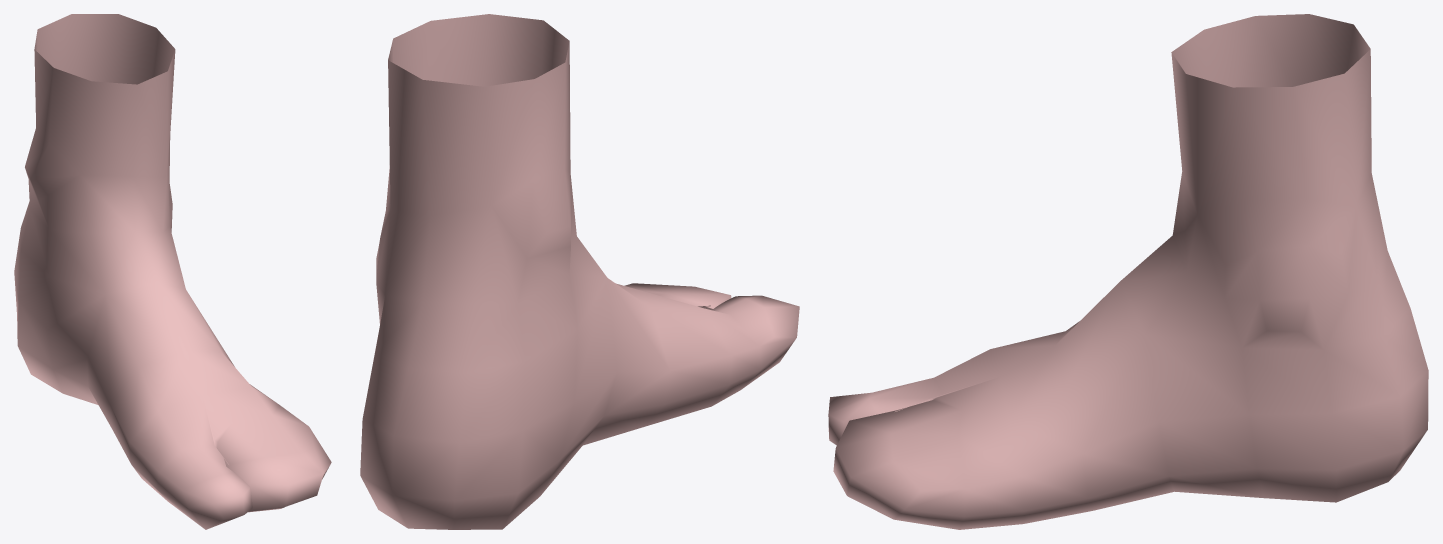
The model's file is Superhero_Male_Foot03.fbx.
3 views of the same model, side by side, from view 1: azimuth 30°, elevation 25°; view 2: azimuth 150°, elevation 25°; view 3: azimuth 270°, elevation 25° (orthographic). The views are drawn at different scales.
Parts seen in each view (by area): view 1: Superhero_Male_Foot03; view 2: Superhero_Male_Foot03; view 3: Superhero_Male_Foot03.
Boxes of the visible parts, x1,y1,x2,y2 form: Superhero_Male_Foot03: (14, 14, 331, 529); Superhero_Male_Foot03: (360, 14, 799, 529); Superhero_Male_Foot03: (828, 14, 1428, 529).
Bounding box in the file's own units: 0.694 × 1.39 × 1.7.
